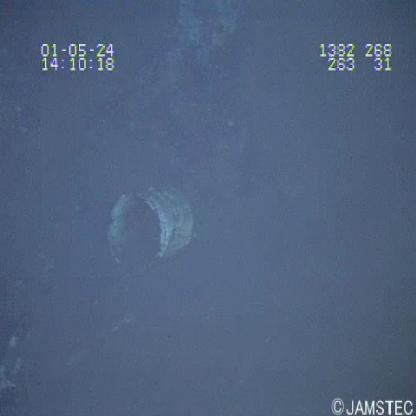Rác: (101, 177, 201, 269)
